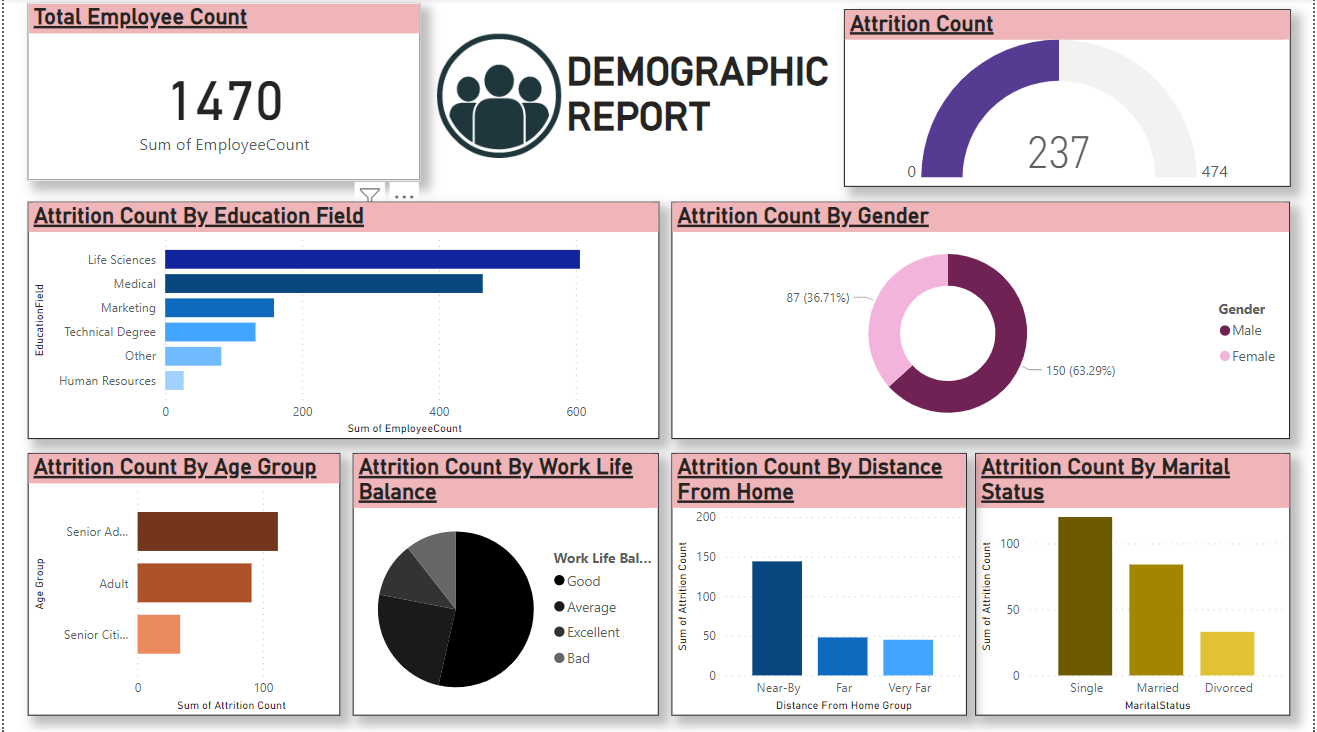

This screenshot's page, from the dashboard's own definition file:
{"tool":"powerbi","page":{"name":"Demographic Report","canvas":[1280,720],"ordinal":1},"visuals":[{"type":"image","box":[407.1,25.7,154,140.6],"z":0},{"type":"textbox","box":[545.2,44,267.7,122.2],"z":1000},{"type":"card","title":"Total Employee Count","fields":{"Values":["Sum(HR-Employee-Attrition.EmployeeCount)"]},"box":[23.2,4.9,383.8,173.6],"z":2000},{"type":"gauge","title":"Attrition Count","fields":{"Y":["Sum(HR-Employee-Attrition.Attrition Count)"]},"box":[821.5,11,436.4,173.6],"z":3000},{"type":"barChart","title":"Attrition Count By Education Field","fields":{"Category":["HR-Employee-Attrition.EducationField"],"Y":["Sum(HR-Employee-Attrition.EmployeeCount)"]},"box":[23.2,199.3,617.3,232.3],"z":4000},{"type":"donutChart","title":"Attrition Count By Gender","fields":{"Category":["HR-Employee-Attrition.Gender"],"Y":["Sum(HR-Employee-Attrition.Attrition Count)"]},"box":[652.8,199.3,605.1,232.3],"z":5000},{"type":"columnChart","title":"Attrition Count By Marital Status ","fields":{"Y":["Sum(HR-Employee-Attrition.Attrition Count)"],"Category":["HR-Employee-Attrition.MaritalStatus"]},"box":[949.8,445,308,256.7],"z":6000},{"type":"barChart","title":"Attrition Count By Age Group","fields":{"Category":["HR-Employee-Attrition.Age Group"],"Y":["Sum(HR-Employee-Attrition.Attrition Count)"]},"box":[23.2,445,305.6,256.7],"z":7000},{"type":"pieChart","title":"Attrition Count By Work Life Balance","fields":{"Category":["HR-Employee-Attrition.Work Life Balance Group"],"Y":["Sum(HR-Employee-Attrition.Attrition Count)"]},"box":[341.1,445,299.5,256.7],"z":8000},{"type":"columnChart","title":"Attrition Count By Distance From Home","fields":{"Y":["Sum(HR-Employee-Attrition.Attrition Count)"],"Category":["HR-Employee-Attrition.Distance From Home Group"]},"box":[652.8,445,288.5,256.7],"z":9000}]}

Visuals, with their boxes in screenshot pixels (x1, y1, x2, y2), scaled from the page's 1280x720 canvas onto the 1317x732 screenshot:
image: 419 26 577 169
textbox: 561 45 836 169
"Total Employee Count" card: 24 5 419 181
"Attrition Count" gauge: 845 11 1294 188
"Attrition Count By Education Field" barChart: 24 203 659 439
"Attrition Count By Gender" donutChart: 672 203 1294 439
"Attrition Count By Marital Status " columnChart: 977 452 1294 713
"Attrition Count By Age Group" barChart: 24 452 338 713
"Attrition Count By Work Life Balance" pieChart: 351 452 659 713
"Attrition Count By Distance From Home" columnChart: 672 452 969 713
